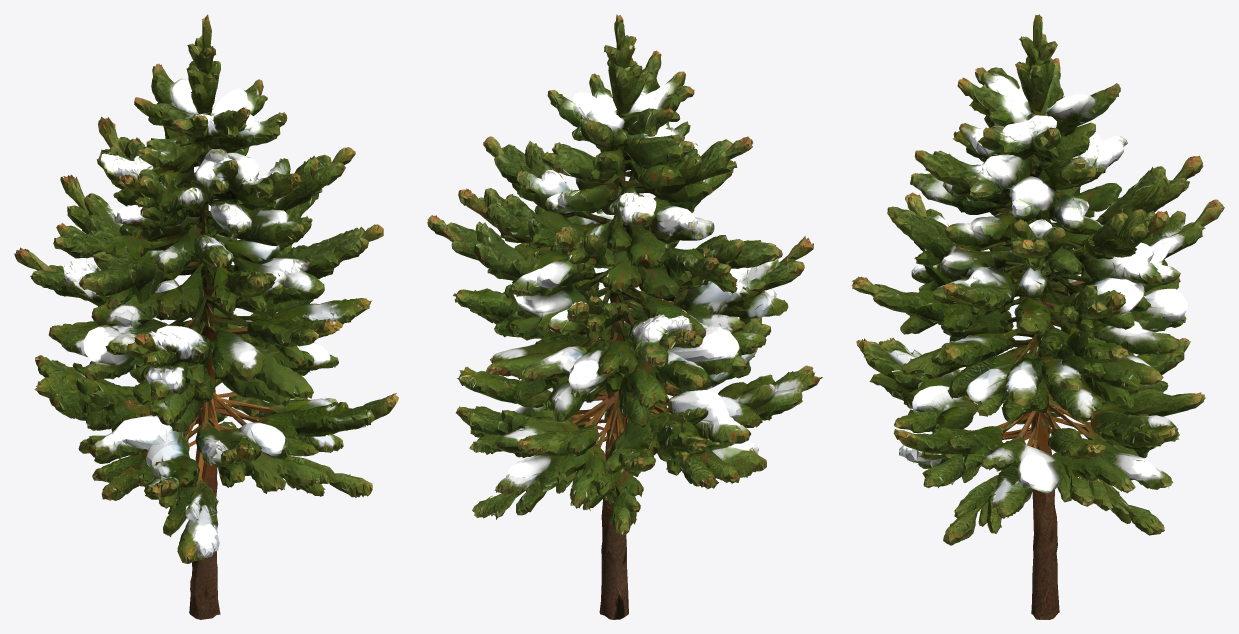
The model's file is spruce.glb.
3 renders of one model, left to right at view 1: azimuth 30°, elevation 25°; view 2: azimuth 150°, elevation 25°; view 3: azimuth 270°, elevation 25°, orthographic.
Bounding box in the file's own units: 0.9732 × 1.89 × 1.07.
Materials: 1 (1 with a texture image).
